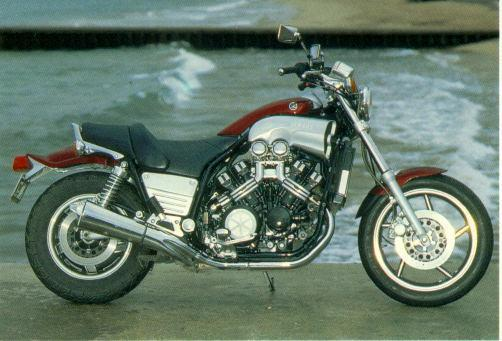motorcycle: (6, 34, 501, 313)
